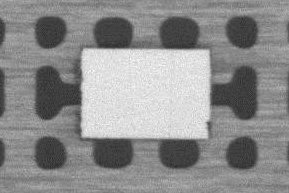DIE_BROKEN: (205, 118, 212, 134)
